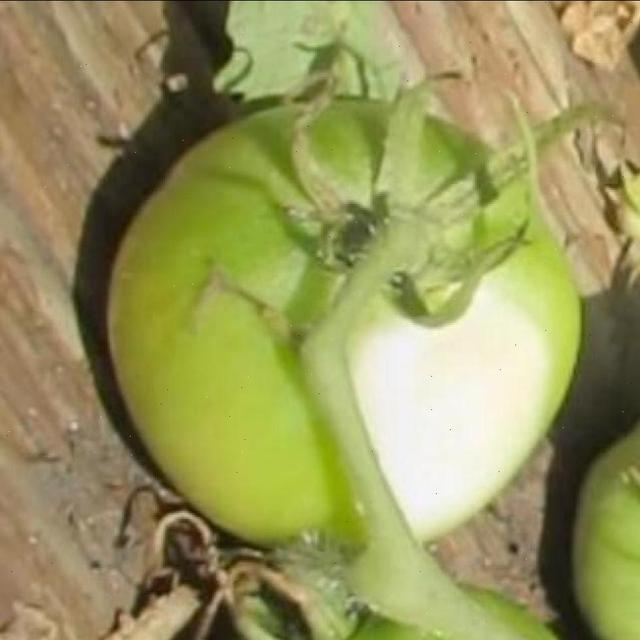Sunscald Fruit: (219, 194, 377, 366)
